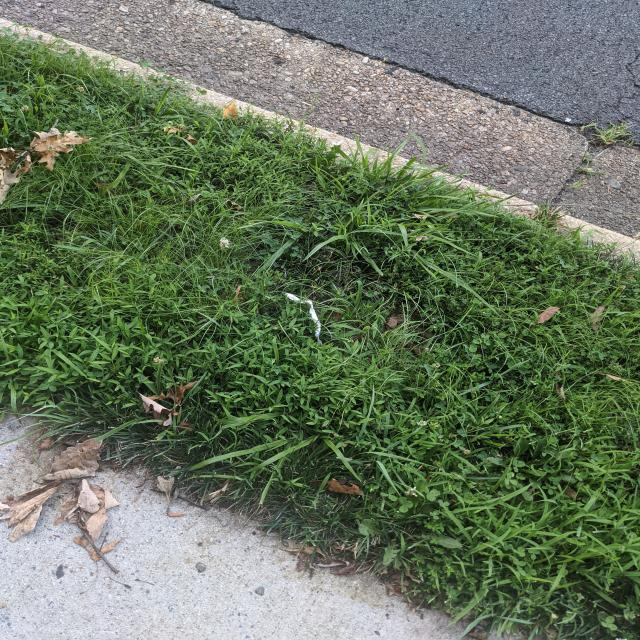litter: (285, 293, 323, 347)
